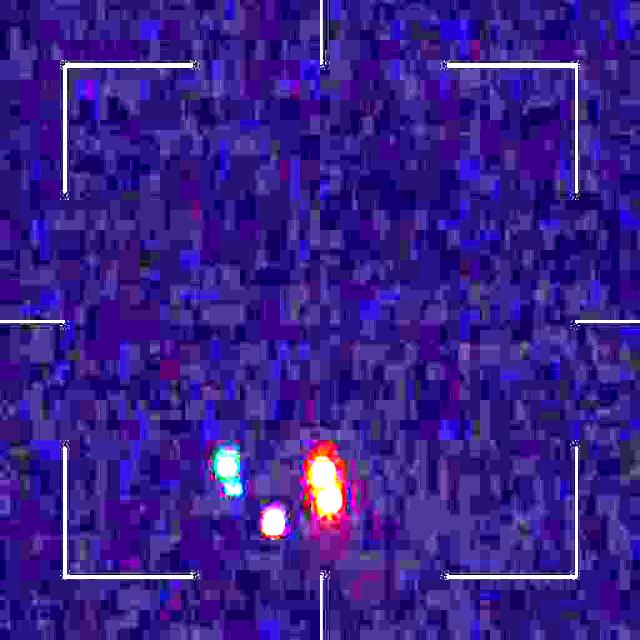bird: (216, 458, 344, 535)
